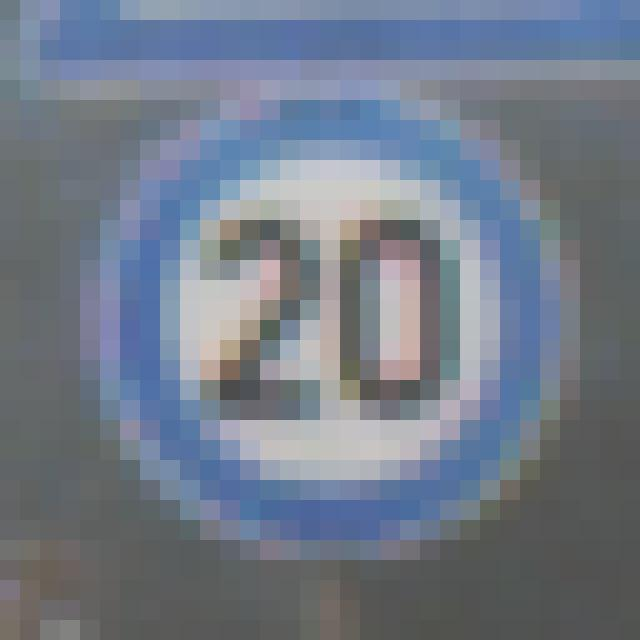SPEED LIMIT 20: (73, 88, 589, 570)
